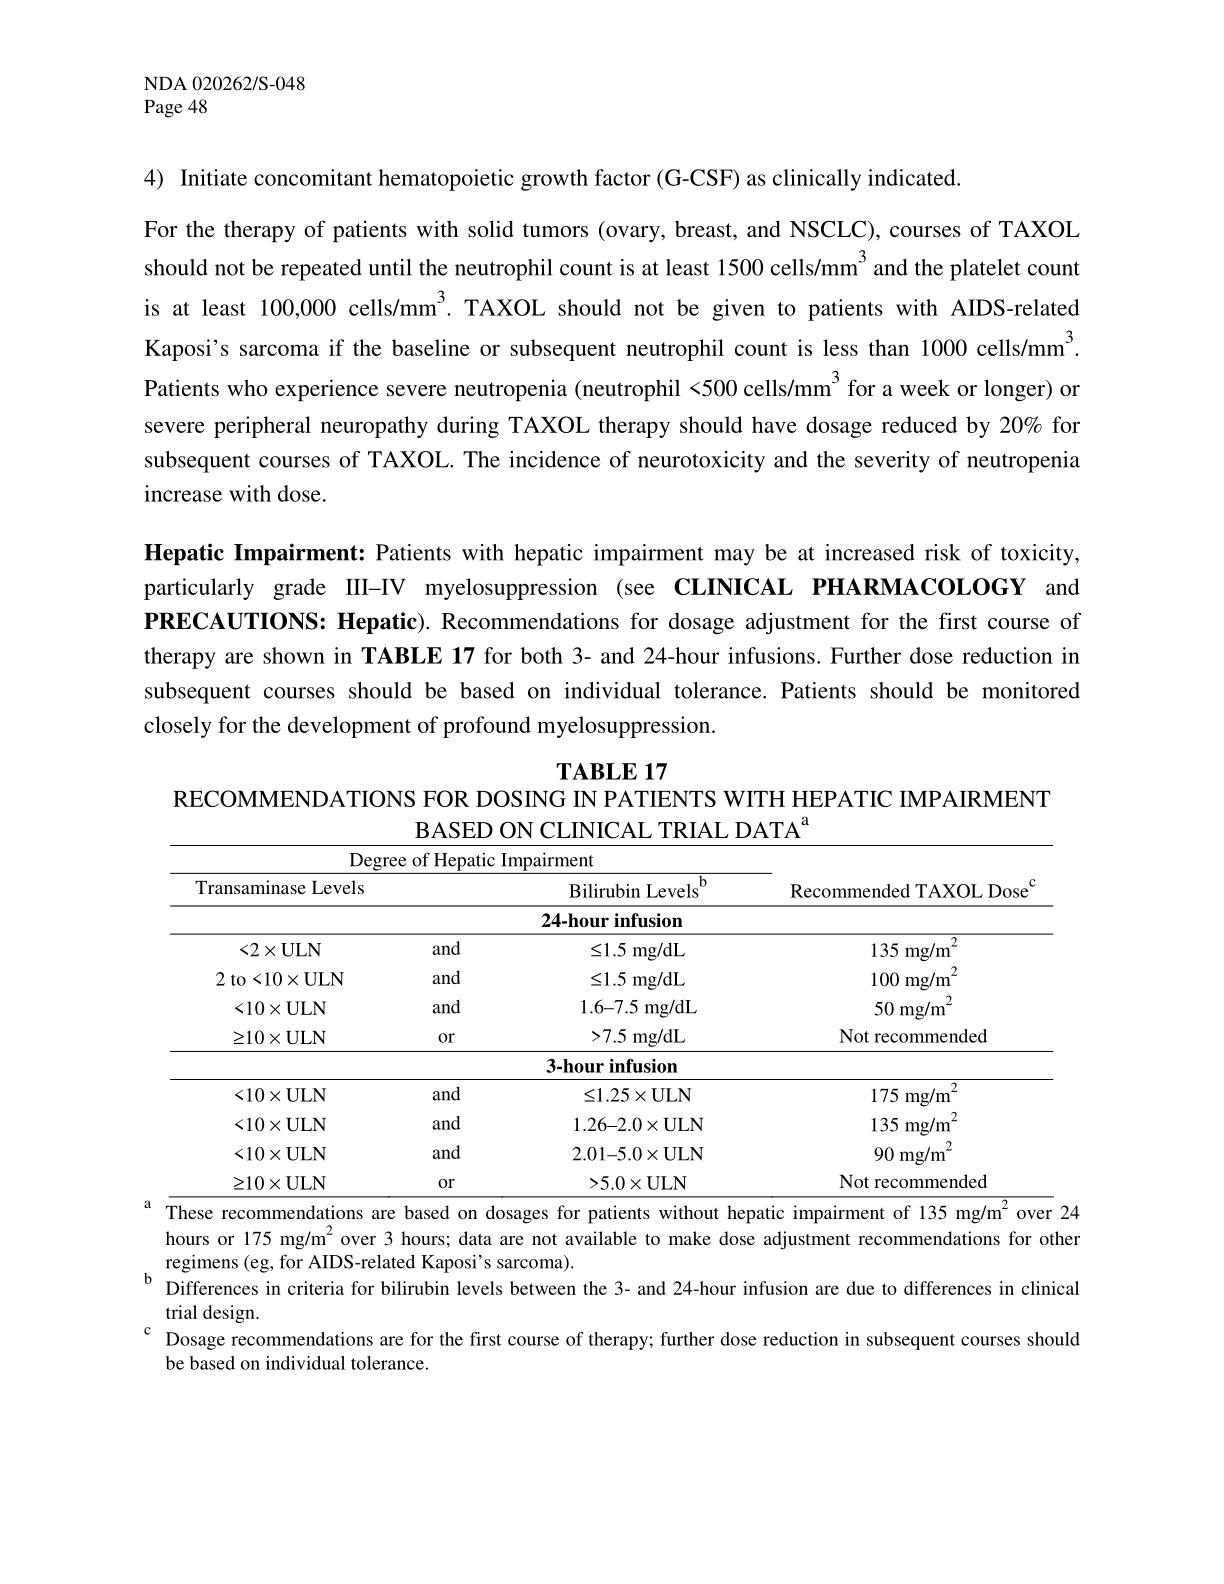partial_lined_merged_cells: (168, 843, 1054, 1198)
